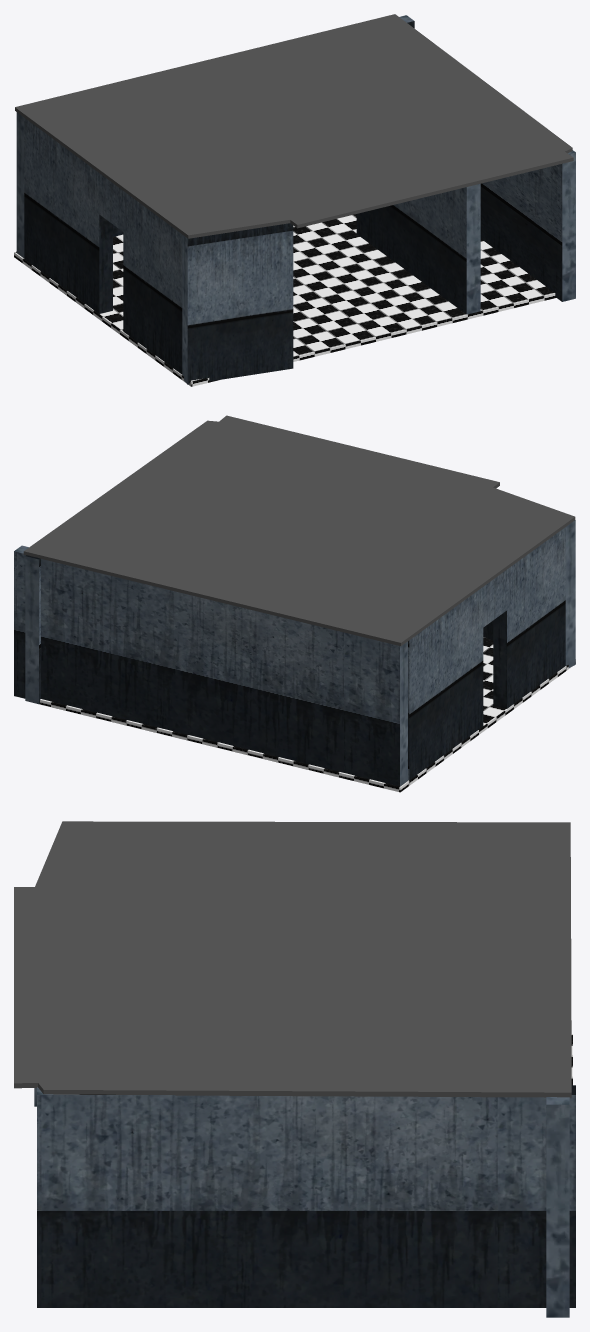
The model's file is storage_room.glb.
3 renders of one model, top to bottom at view 1: azimuth 30°, elevation 25°; view 2: azimuth 150°, elevation 25°; view 3: azimuth 270°, elevation 25°, orthographic. The views are drawn at different scales.
Visible parts, largest first — view 1: plafond.001, mur3.001, sol.001, mur2.001, mur2.002, mur2.003, mur2.004; view 2: plafond.001, mur2.004, mur3.001, sol.001, mur2.003, mur2.001; view 3: plafond.001, mur2.003, mur2.004.
Boxes of the visible parts, x1,y1,x2,y2 form: plafond.001: (15,14,573,238); mur3.001: (24,118,182,374); sol.001: (14,214,555,386); mur2.001: (182,223,293,384); mur2.002: (356,183,480,314); mur2.003: (480,150,575,301); mur2.004: (16,15,414,257); plafond.001: (23,415,575,646); mur2.004: (14,545,407,786); mur3.001: (408,527,565,780); sol.001: (39,637,575,792); mur2.003: (25,555,40,704); mur2.001: (483,520,575,667); plafond.001: (14,821,571,1097); mur2.003: (37,1085,575,1307); mur2.004: (546,1097,569,1317).
Size of the model in its own units: 8.56 by 3.13 by 7.29.
7 materials, 6 textured.
